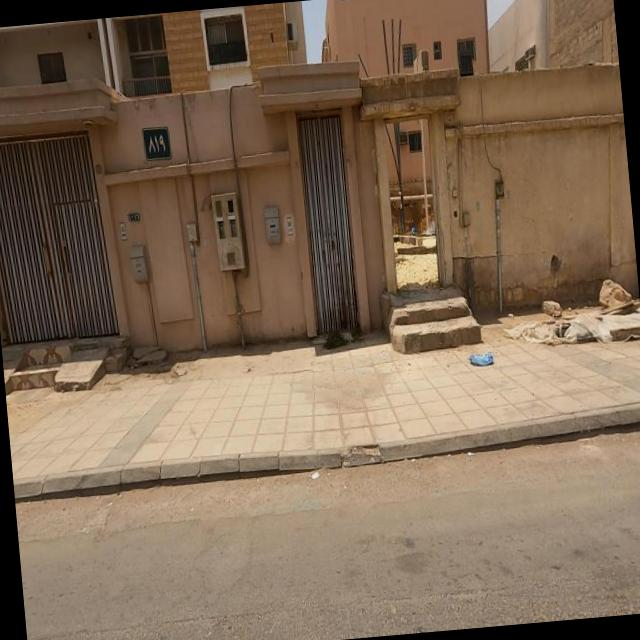debris: (394, 138, 571, 385), (481, 259, 629, 390), (447, 322, 512, 417), (286, 434, 348, 522)
